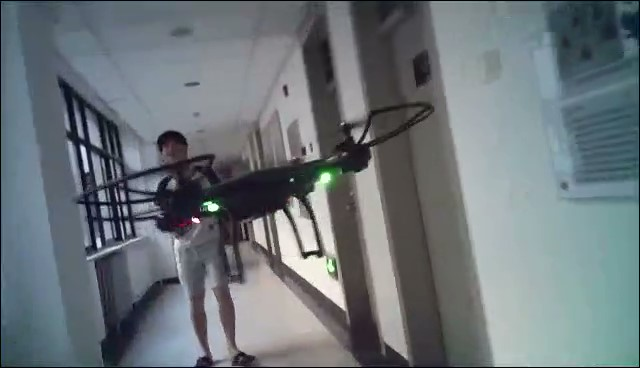drone: (70, 101, 437, 286)
person: (152, 129, 260, 367)
